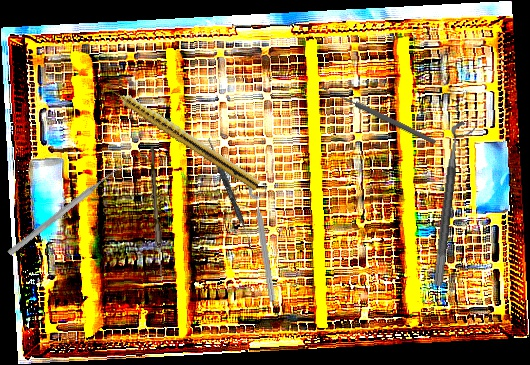Fixation Ring: (432, 121, 477, 288), (247, 180, 286, 303)
Handpiece: (102, 79, 263, 191)
Pusher: (6, 161, 126, 258)
Spatula Surgical: (203, 136, 257, 249)
Surgical Spoon: (319, 83, 438, 146), (147, 146, 166, 281)
